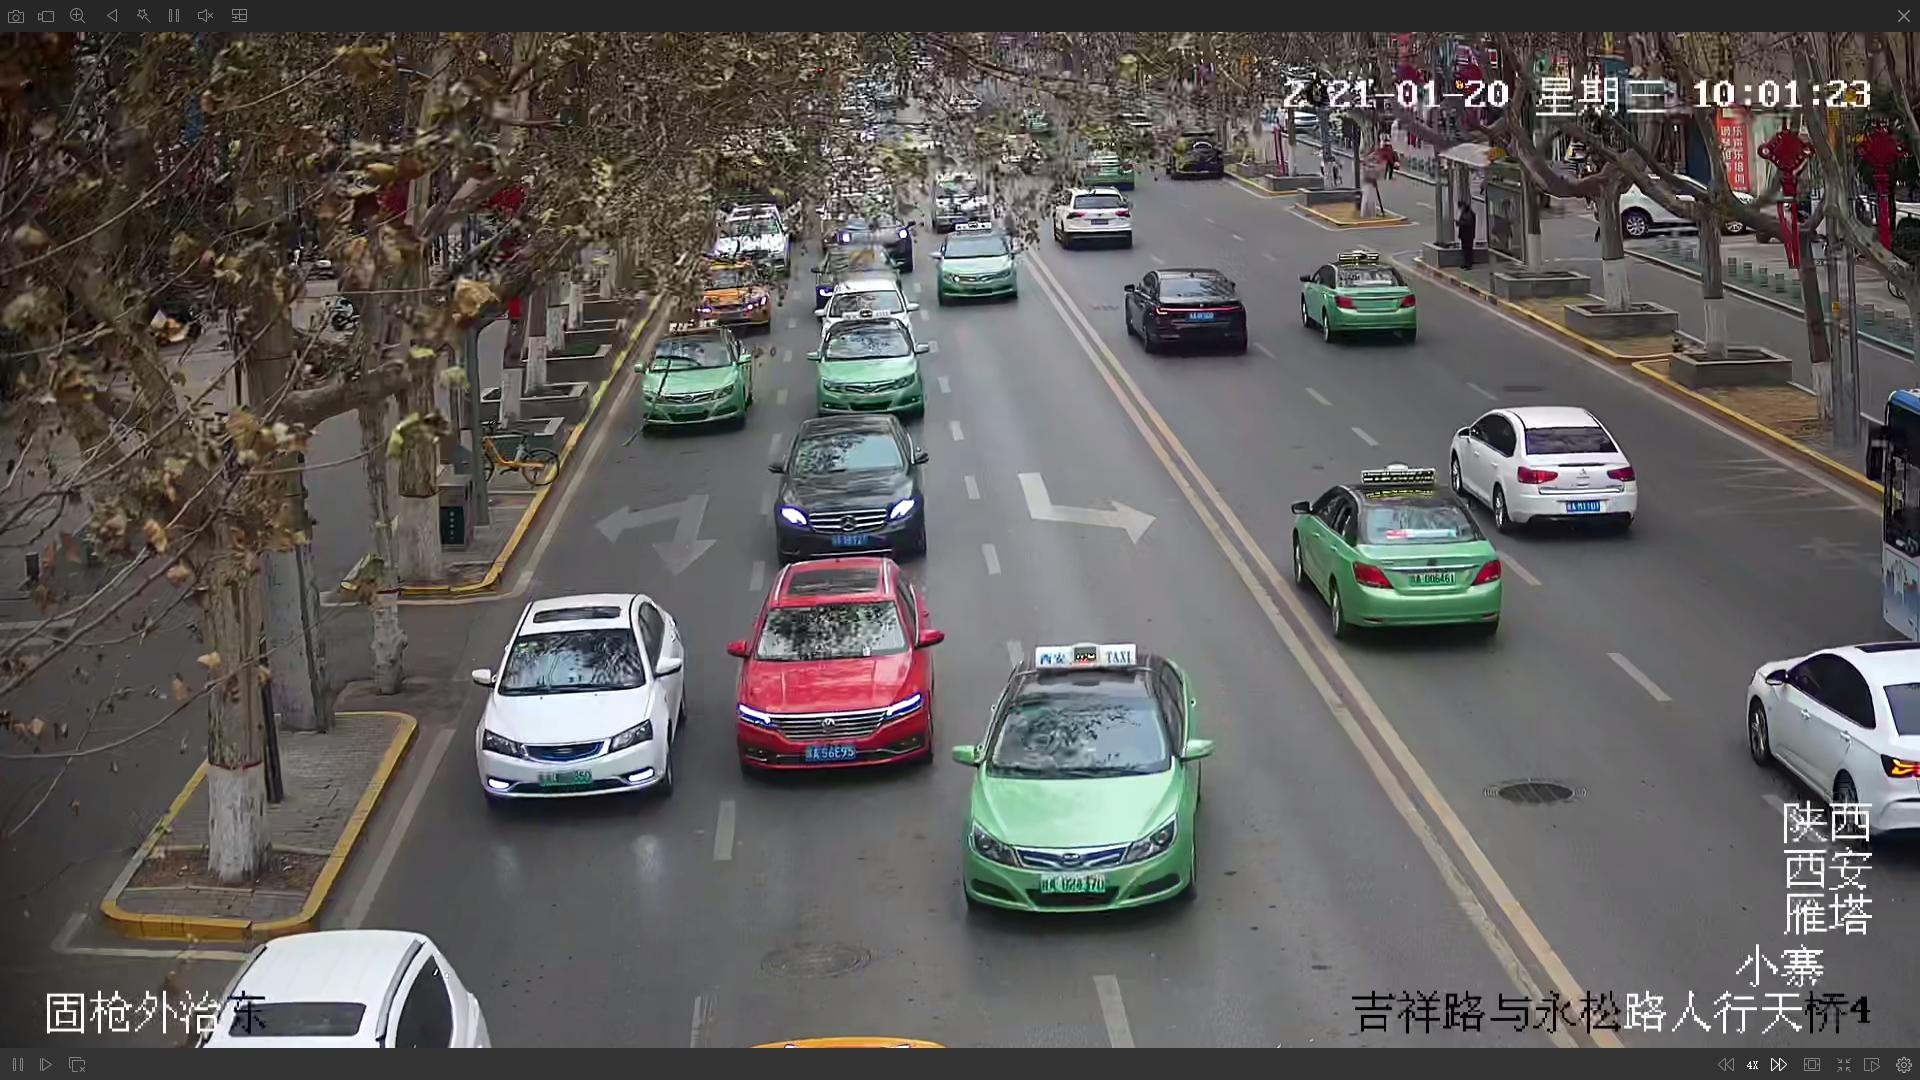black: (769, 402, 932, 562)
grass-green: (955, 644, 1211, 918), (1298, 469, 1509, 637)
red: (732, 559, 939, 777)
white: (473, 589, 688, 800)
